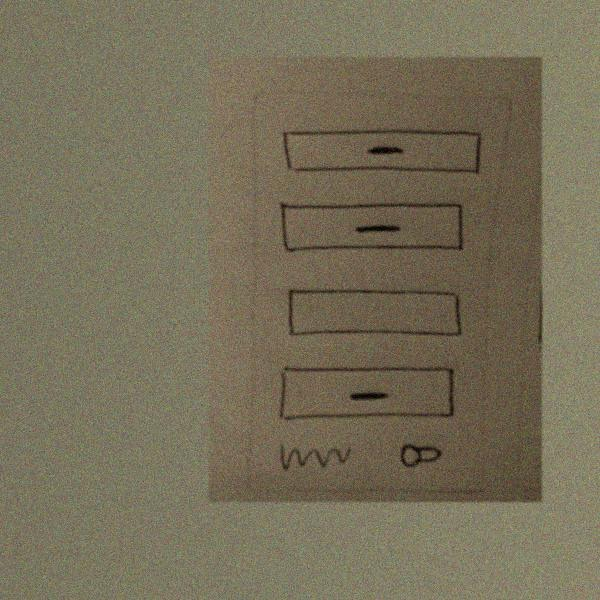button: (279, 125, 486, 186), (276, 362, 458, 430), (274, 199, 470, 258)
switch: (396, 438, 449, 473)
text: (276, 440, 356, 477)
text_input: (278, 283, 470, 346)
